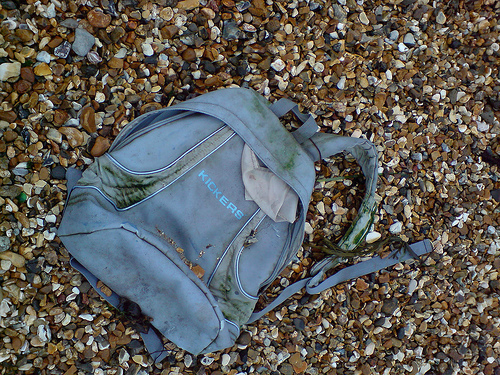litter: (54, 83, 435, 360)
